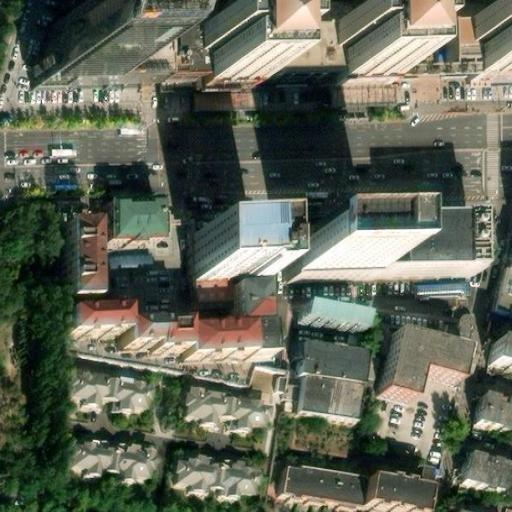building: (38, 40, 132, 113), (379, 216, 481, 278), (376, 328, 461, 397), (244, 27, 332, 77), (72, 437, 155, 490), (67, 369, 151, 421), (321, 25, 392, 85), (180, 29, 253, 87), (173, 455, 254, 505), (180, 384, 261, 434), (289, 236, 379, 278), (297, 339, 364, 392), (452, 21, 512, 78), (274, 463, 357, 504), (450, 447, 512, 500), (191, 221, 255, 272), (292, 385, 358, 430), (293, 299, 368, 334), (352, 476, 416, 512), (180, 320, 244, 355), (54, 214, 84, 286), (110, 217, 165, 256), (64, 301, 125, 334), (124, 316, 181, 350), (467, 390, 512, 433), (154, 31, 192, 79), (381, 24, 406, 73), (439, 23, 464, 67), (494, 268, 512, 327), (412, 279, 464, 298), (483, 334, 512, 367), (243, 319, 264, 352), (449, 499, 501, 512)
